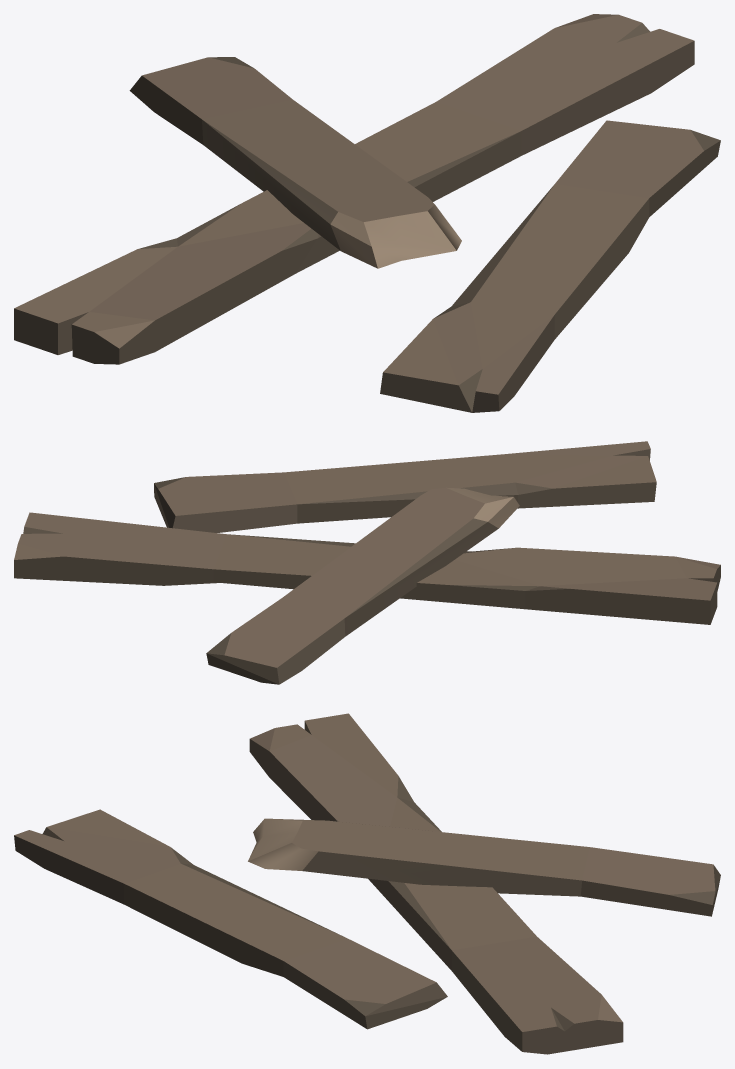
File: SM_Env_Rubble_Plank_03.fbx
3 views of the same model, one above another, from view 1: azimuth 30°, elevation 25°; view 2: azimuth 150°, elevation 25°; view 3: azimuth 270°, elevation 25° (orthographic). The views are drawn at different scales.
Visible parts, largest first — view 1: SM_Env_Rubble_Plank_03; view 2: SM_Env_Rubble_Plank_03; view 3: SM_Env_Rubble_Plank_03.
Boxes of the visible parts, x1,y1,x2,y2 form: SM_Env_Rubble_Plank_03: (14, 14, 720, 412); SM_Env_Rubble_Plank_03: (14, 441, 720, 684); SM_Env_Rubble_Plank_03: (14, 713, 720, 1054).
Bounding box in the file's own units: 2.39 × 0.1838 × 2.24.
